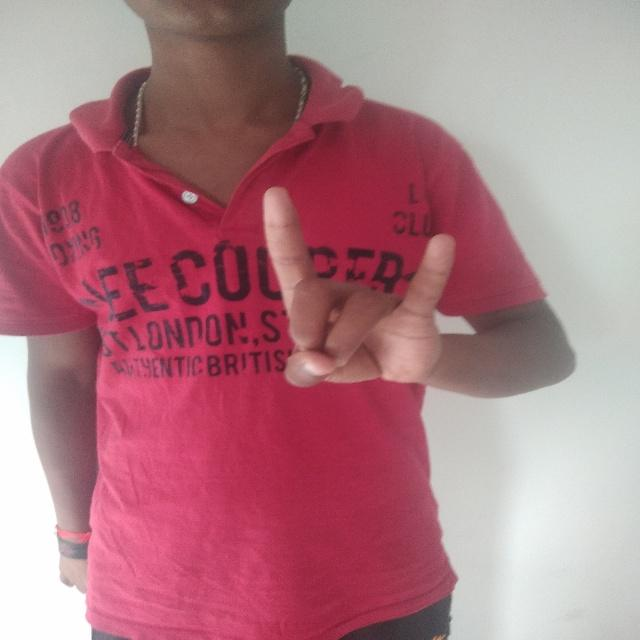Corna: (254, 181, 464, 413)
